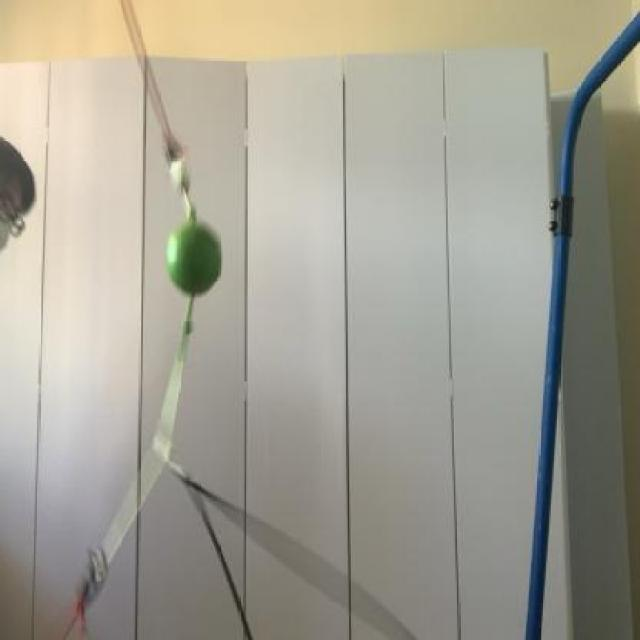baseball: (164, 205, 230, 306)
